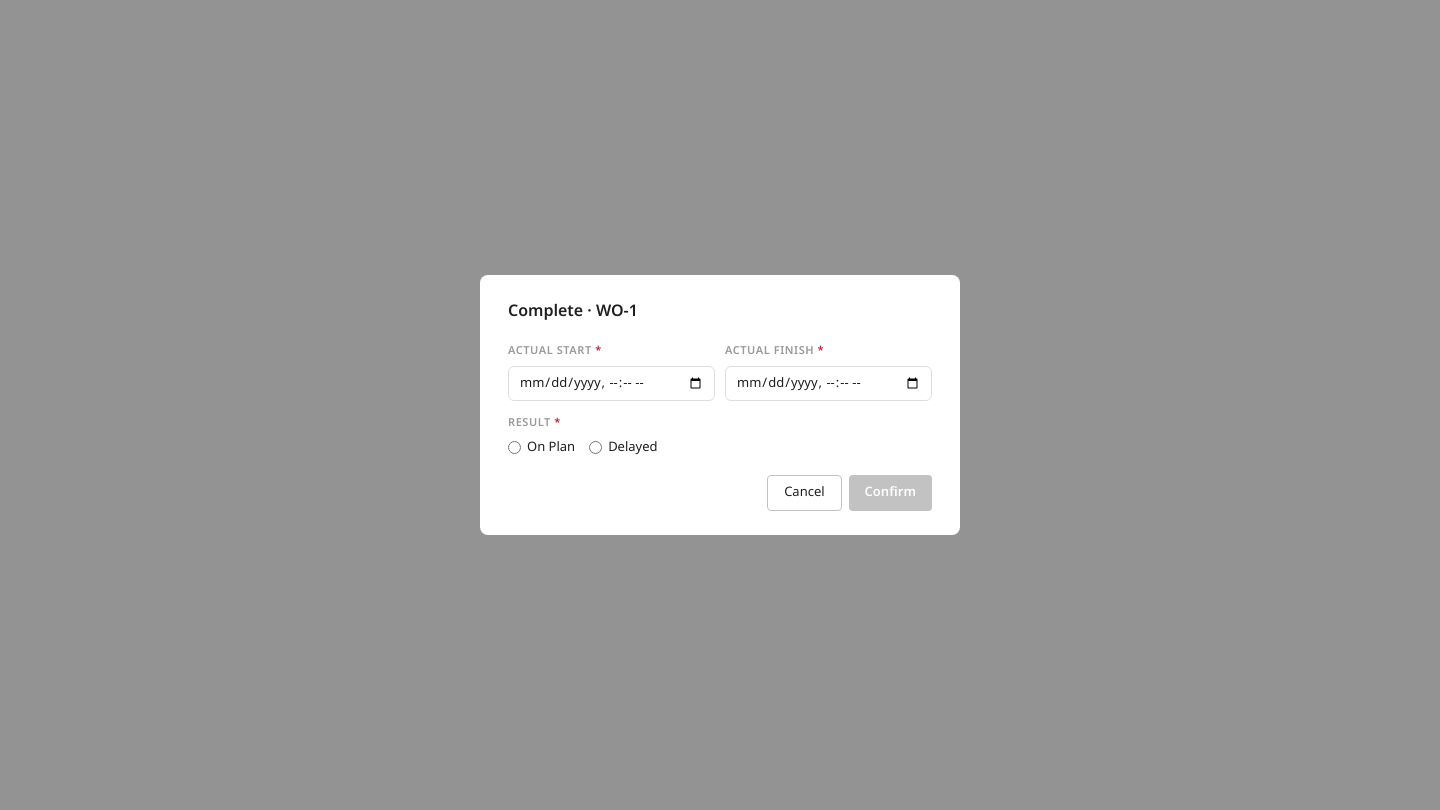
Test case: ActualDatesModal › starts empty, shows no messages before the user types, and keeps Confirm disabled until valid
The image size is (1440, 810).
Check: the field labelled "Actual Finish *" is empty, box [725,366,932,401]
Check: the button "Confirm" is disabled, box [849,475,932,511]
Type "2025-01-05T08:00" into the field labelled "Actual Start *". click: (612, 384)
box: [508,366,715,401]
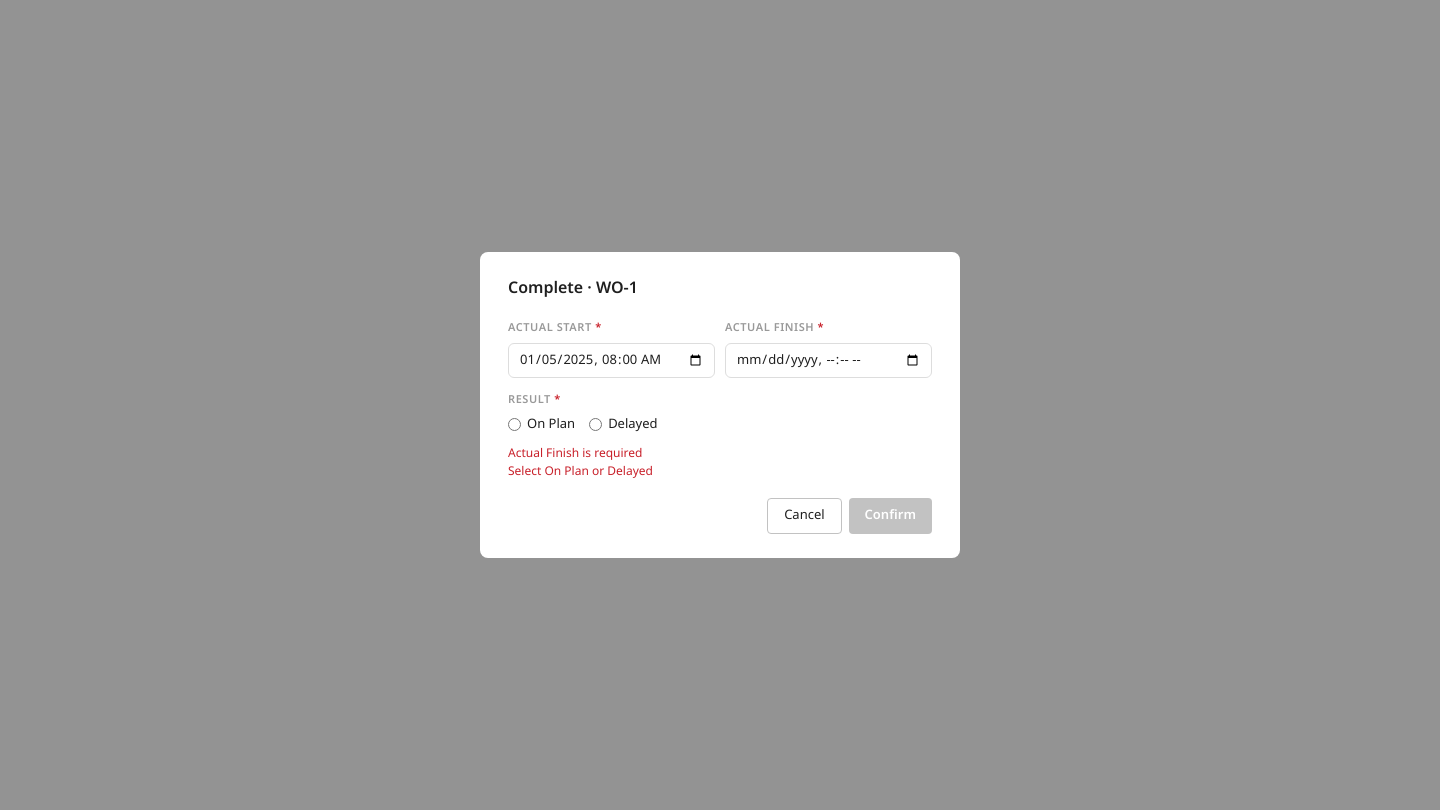
Type "2025-01-06T17:30" into the field labelled "Actual Finish *". click: (828, 361)
box: [725,343,932,378]
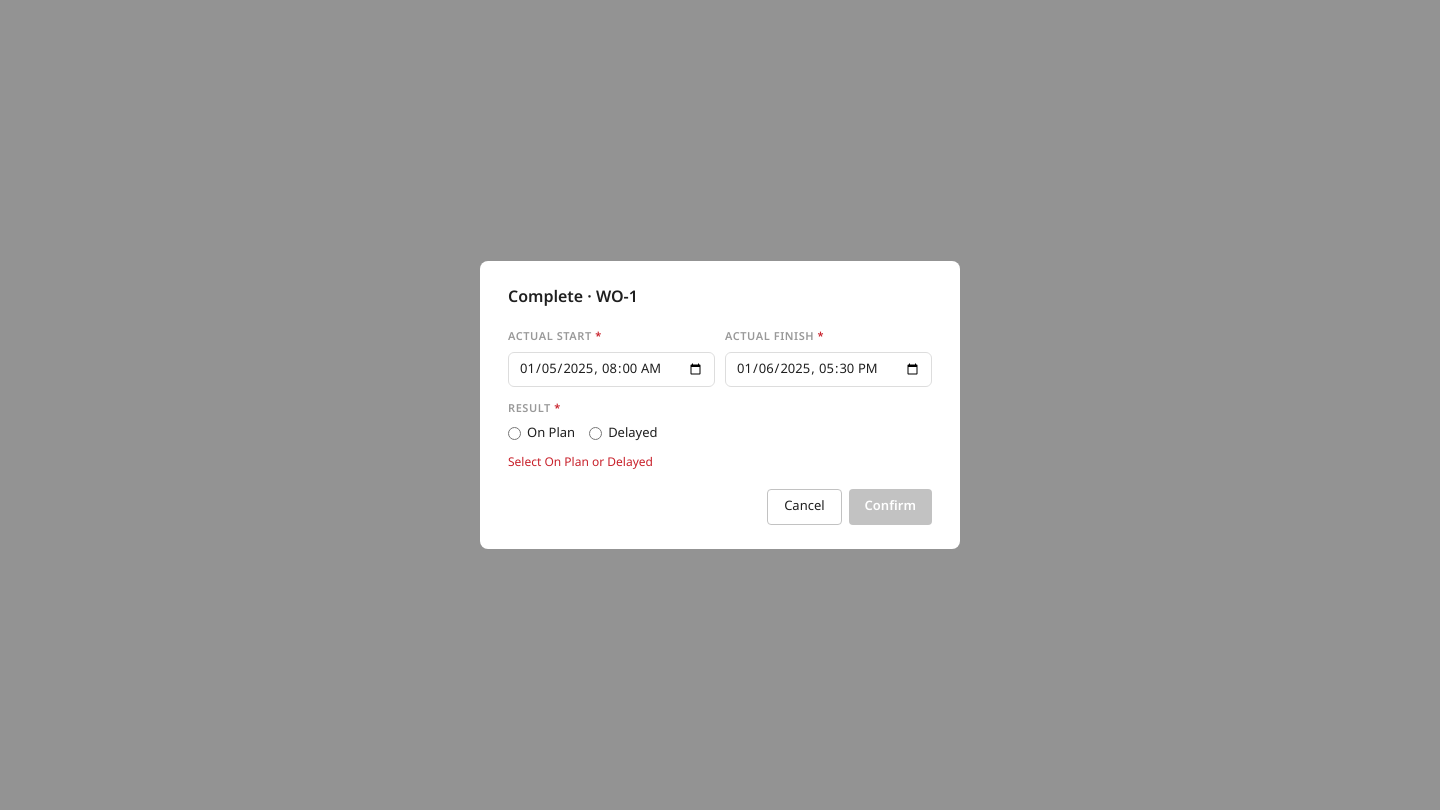
Check: the button "Confirm" is disabled, box [849,489,932,525]
Check: the text "Select On Plan or Delayed" is shown, box [508,453,653,471]
Click the radio button labelled "On Plan". click: click(514, 434)
box: [508,427,521,440]
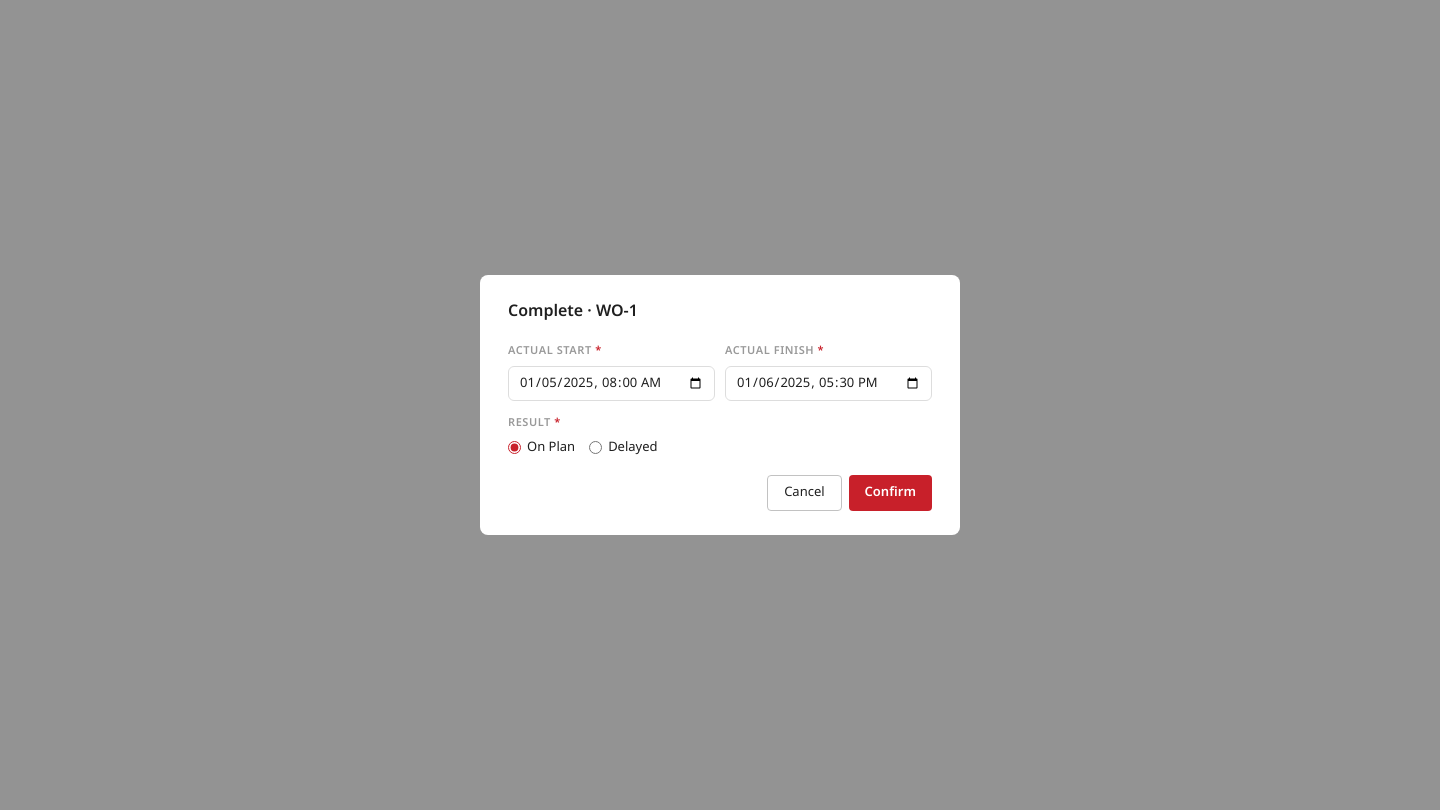
Check: the button "Confirm" is enabled, box [849,475,932,511]
